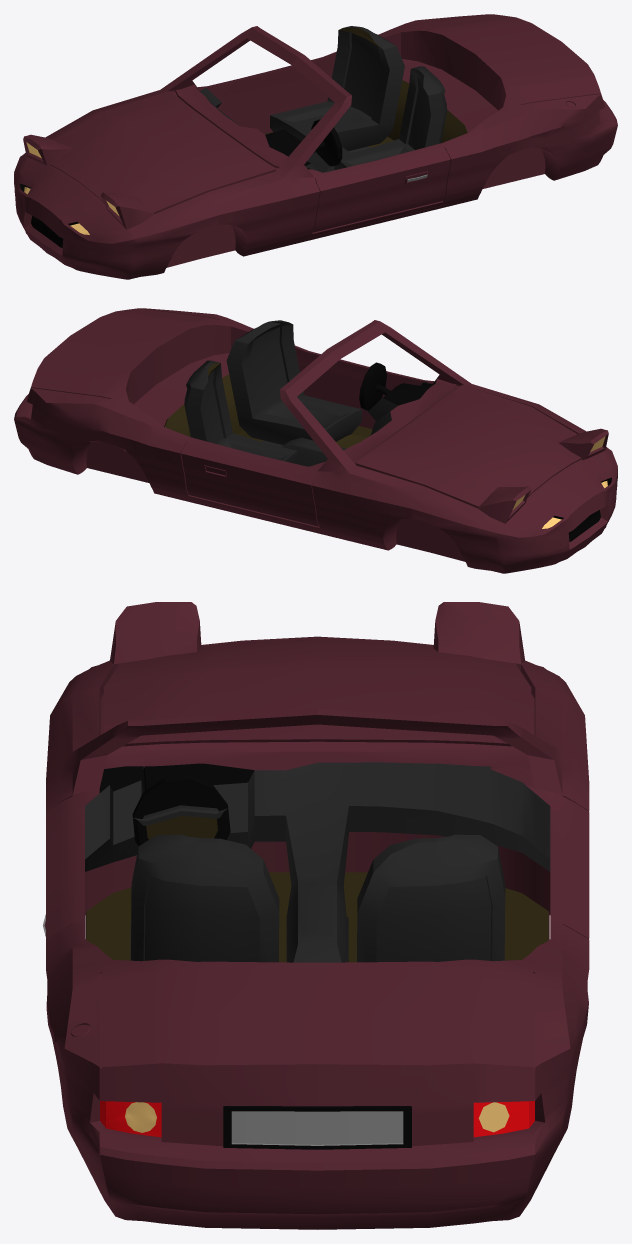
The model's file is mazdamx5.fbx.
The picture shows the model from 3 angles, top to bottom: view 1: azimuth 30°, elevation 25°; view 2: azimuth 150°, elevation 25°; view 3: azimuth 270°, elevation 25°; orthographic projection. The views are drawn at different scales.
Parts seen in each view (by area): view 1: Car; view 2: Car; view 3: Car.
Boxes of the visible parts, bbox=[...] form: Car: bbox=[14, 14, 617, 279]; Car: bbox=[14, 308, 617, 573]; Car: bbox=[43, 602, 589, 1229].
Size of the model in its own units: 718 by 172 by 316.
